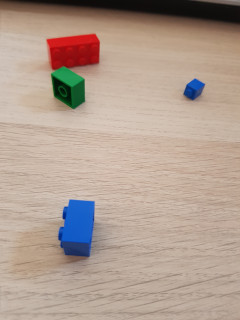1x1 blue: (184, 78, 205, 101)
2x2 blue: (55, 197, 99, 259)
2x2 green: (50, 66, 86, 108)
2x4 red: (45, 32, 102, 70)
